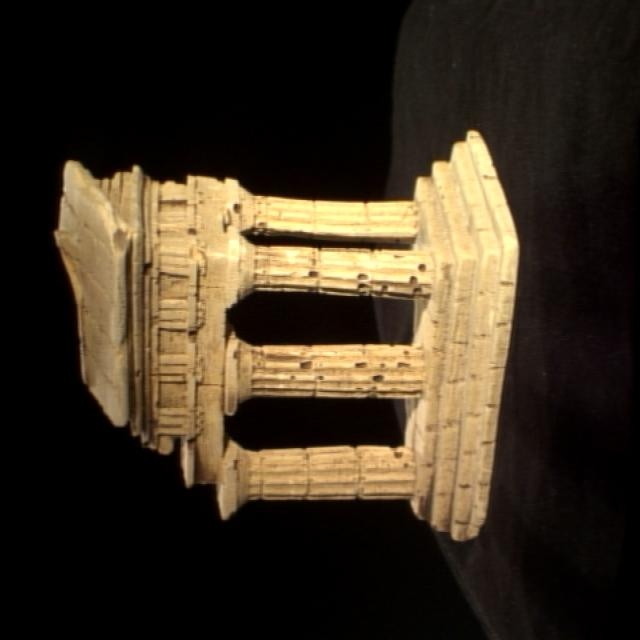Instance-Segmentation: (55, 132, 518, 539)
